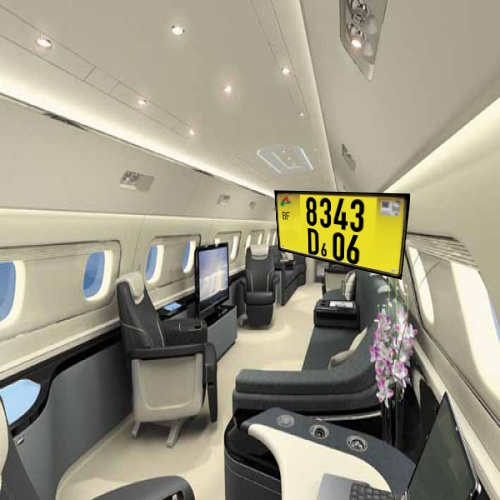plate: (260, 174, 417, 288)
